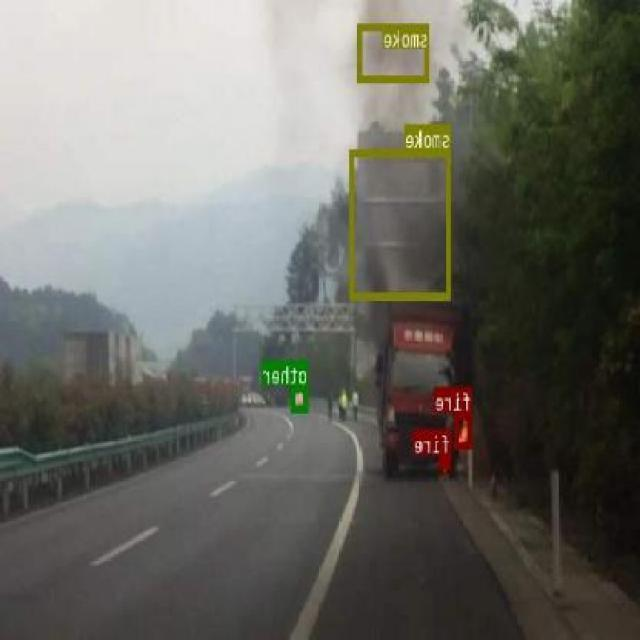Fire: (456, 411, 472, 447)
Smoke: (351, 148, 452, 300), (358, 23, 430, 82)
